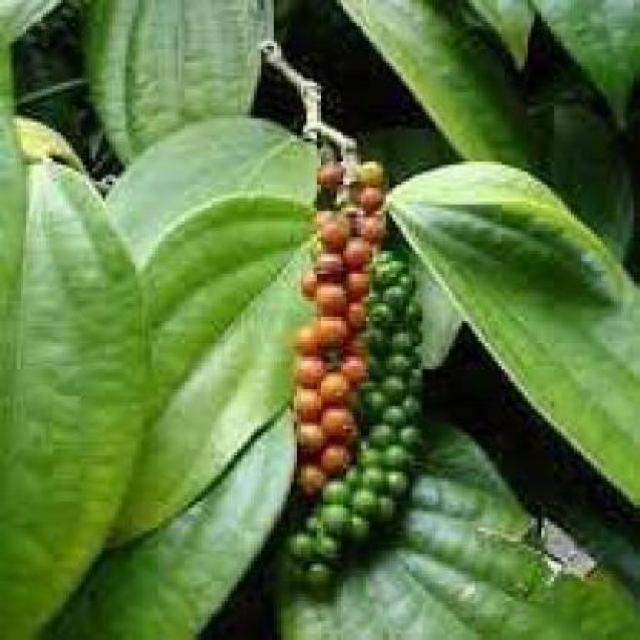RIPE: (291, 153, 372, 456)
UNRIPE: (357, 242, 429, 519)
